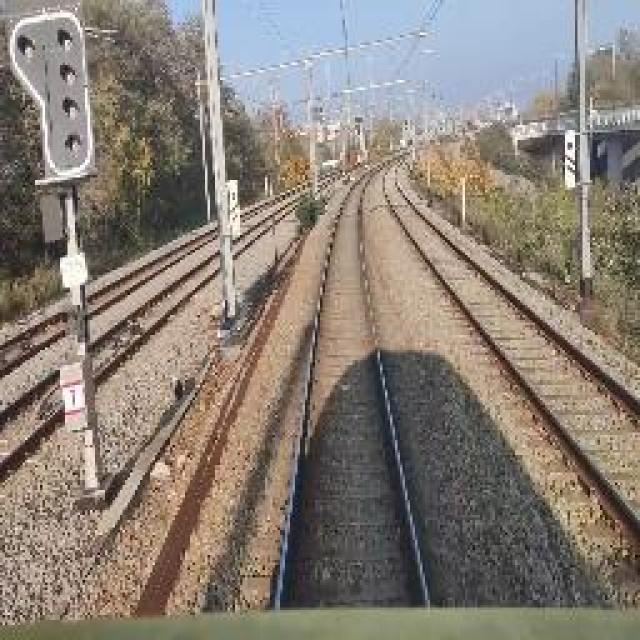rail: (250, 152, 452, 610)
